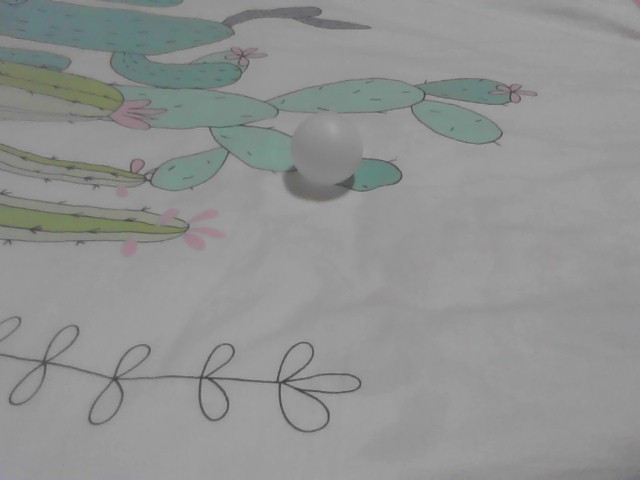ball: (290, 118, 365, 183)
